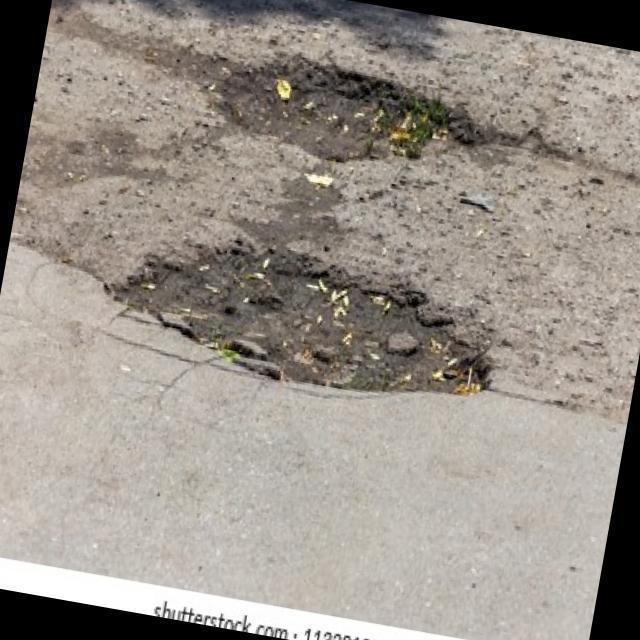Pothole: (105, 240, 497, 400), (219, 62, 482, 167)
